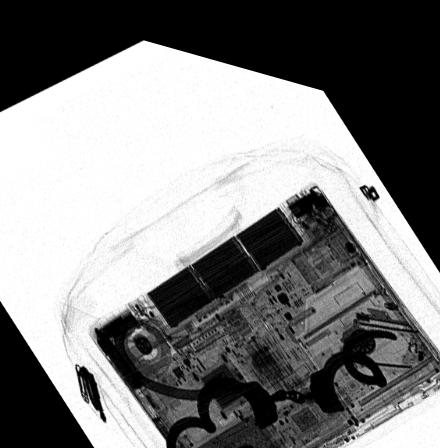HandCuffs: (164, 306, 402, 448)
